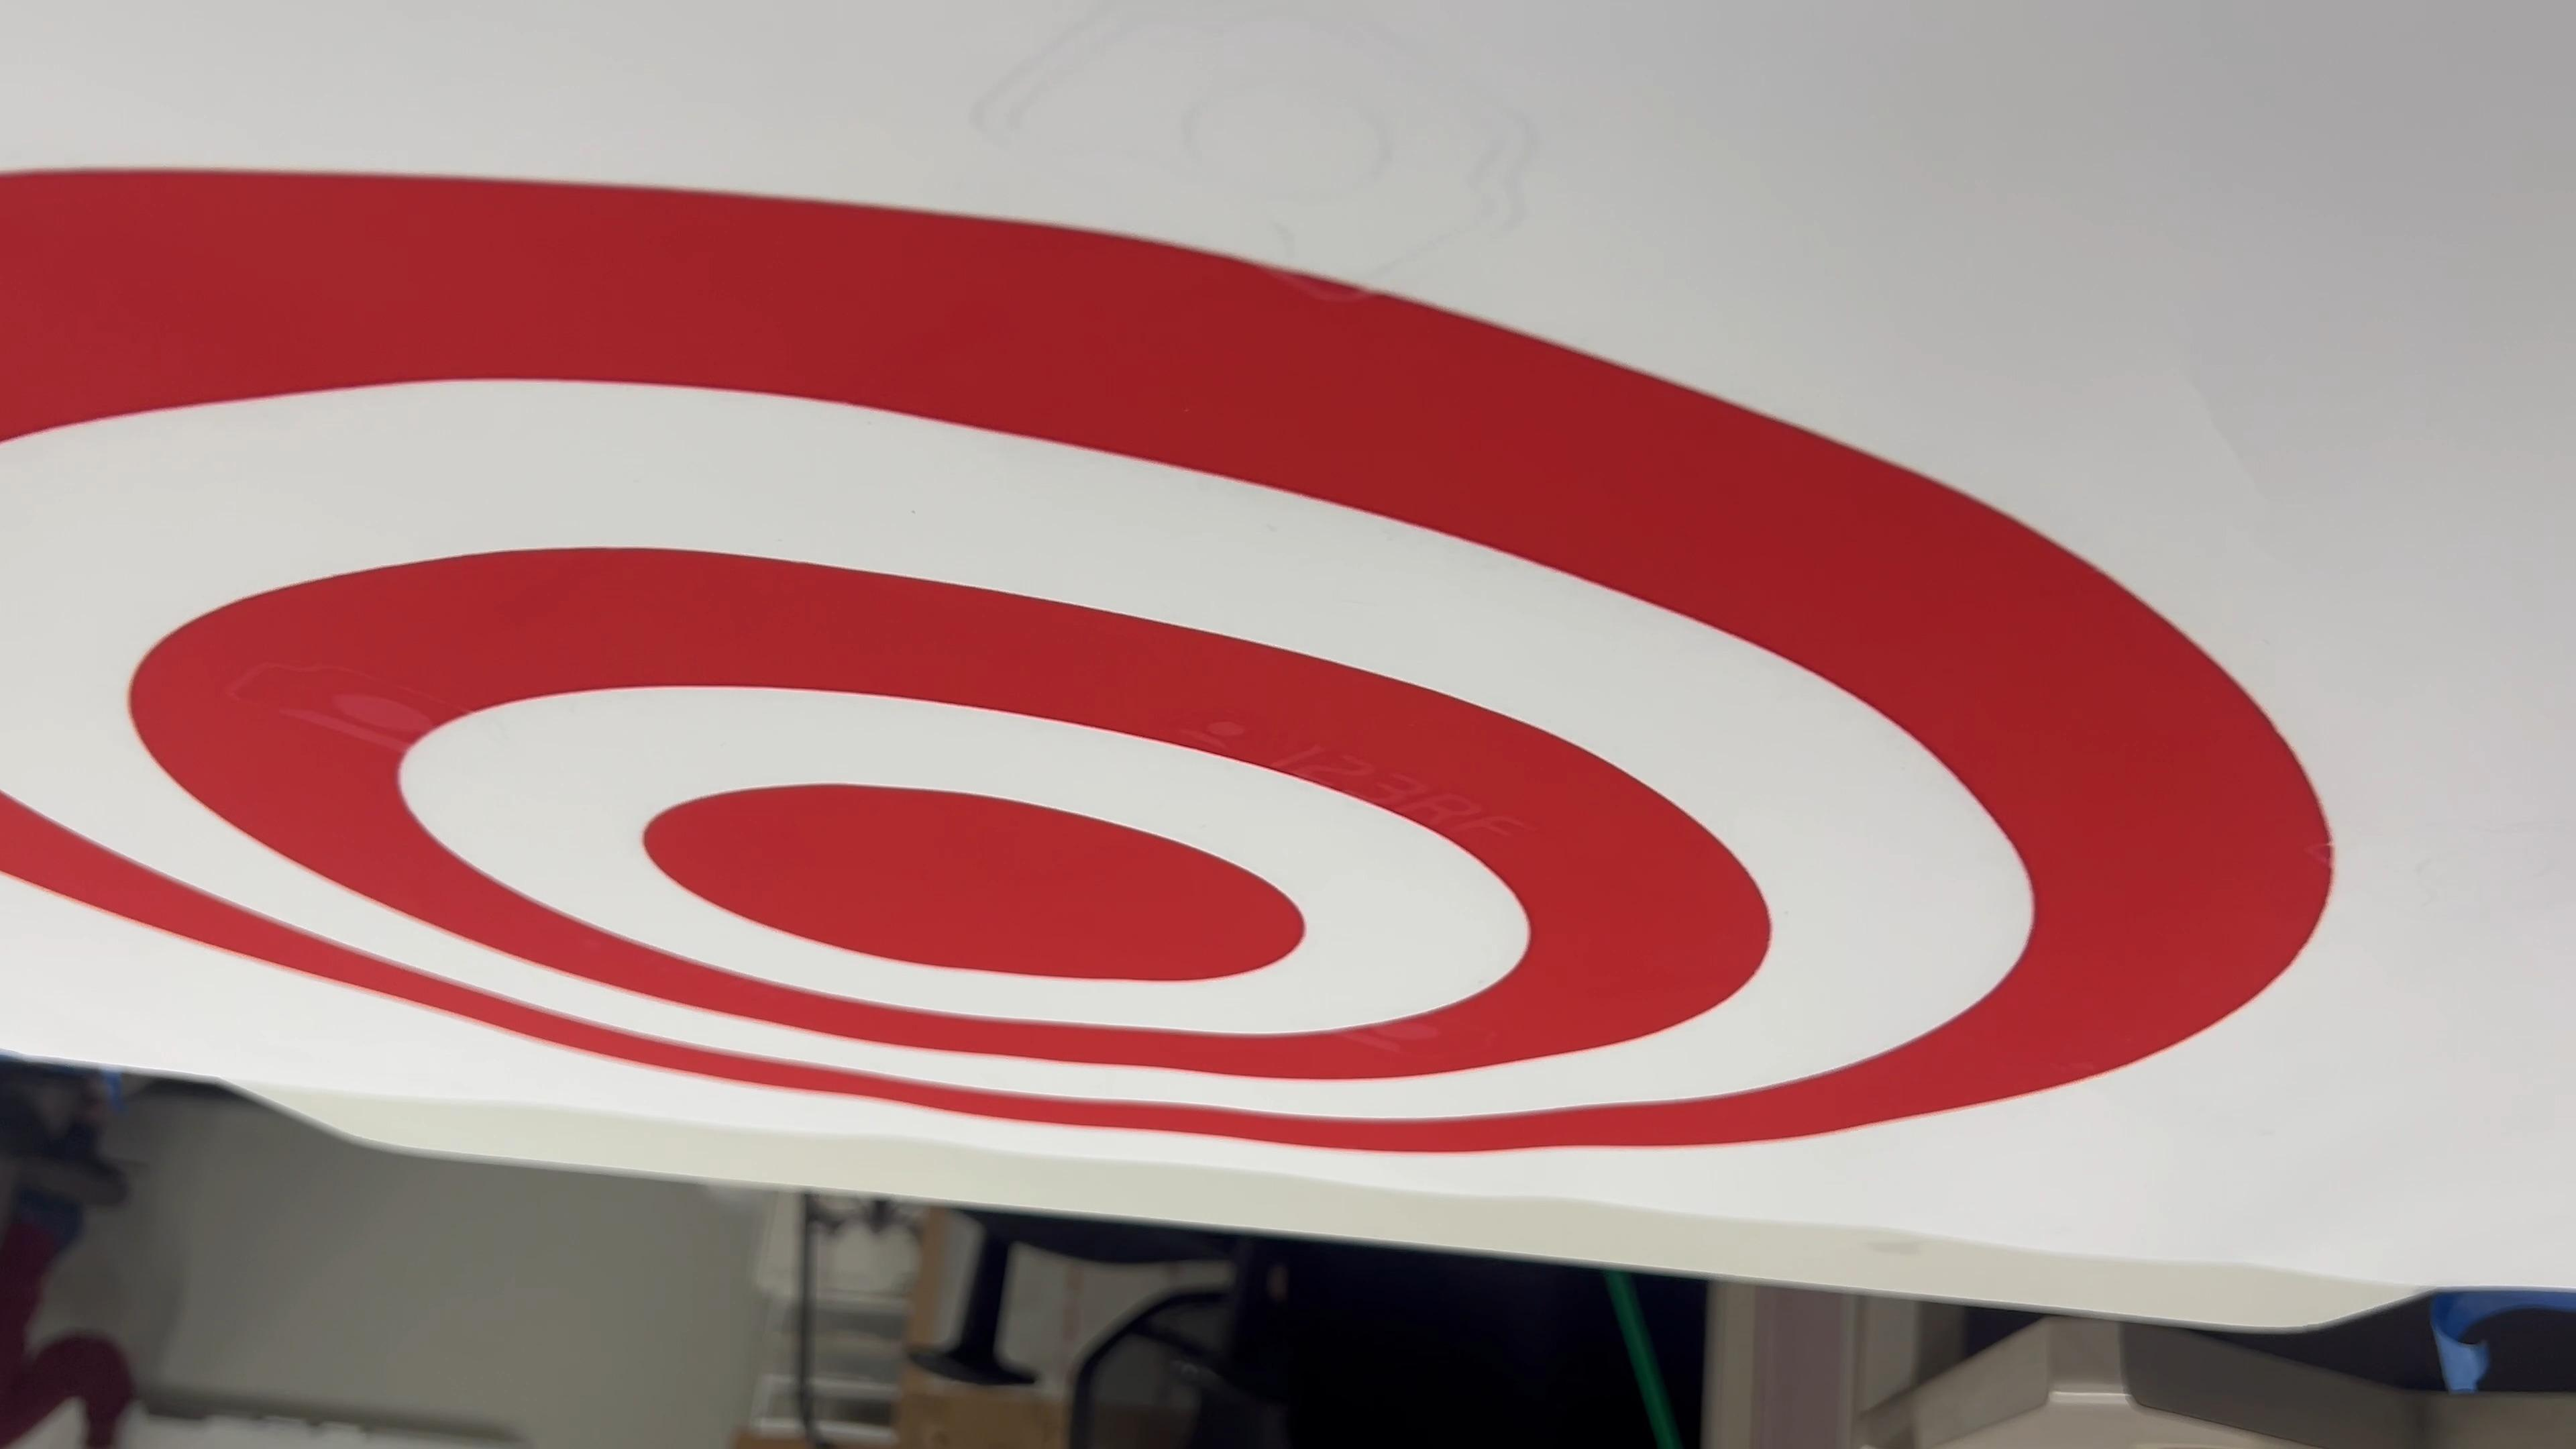target_red: (0, 0, 2376, 1208)
